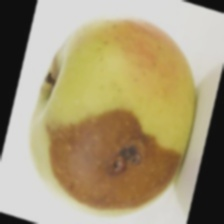apple: (30, 30, 194, 200)
